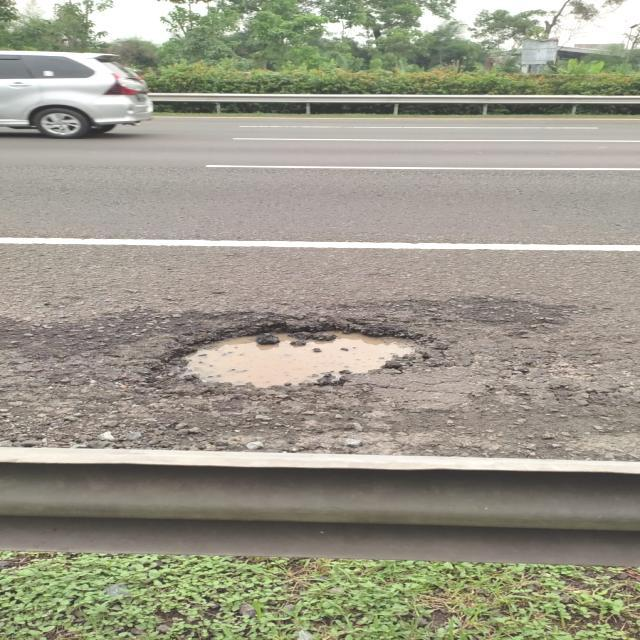Buraco: (140, 312, 438, 398)
